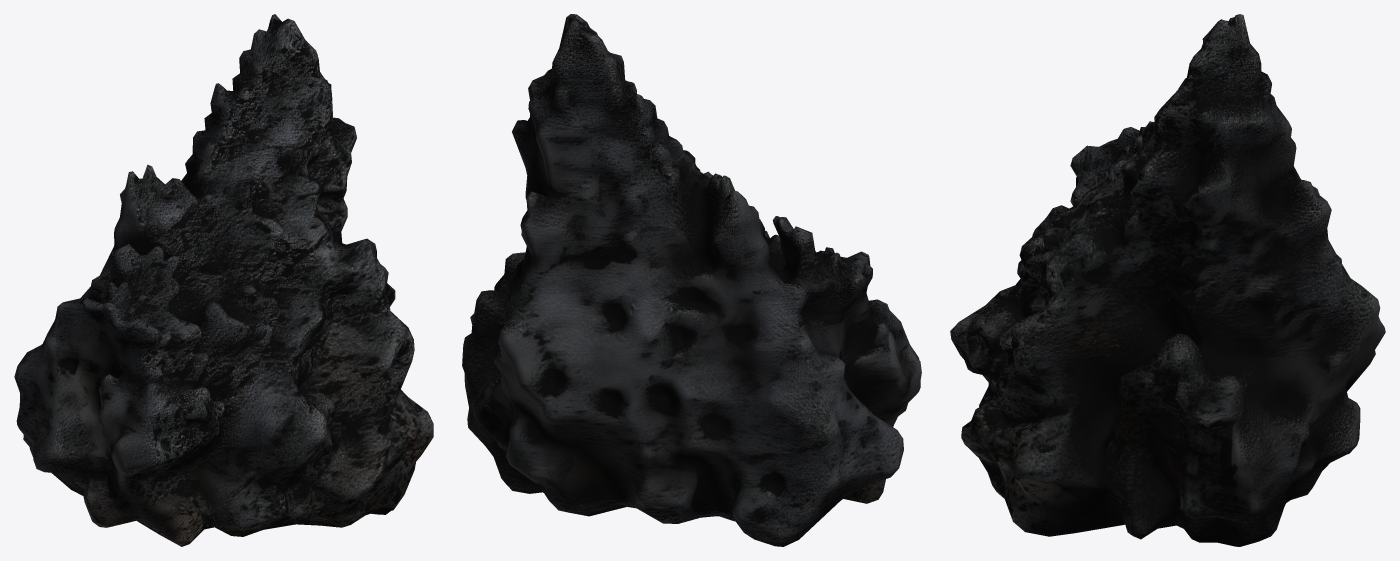
File: selected.fbx
The picture shows the model from 3 angles, left to right: view 1: azimuth 30°, elevation 25°; view 2: azimuth 150°, elevation 25°; view 3: azimuth 270°, elevation 25°; orthographic projection. The views are drawn at different scales.
Visible parts, largest first — view 1: tripo_node_a2f37da6-634e-47e5-b642-c77d2c17bae2; view 2: tripo_node_a2f37da6-634e-47e5-b642-c77d2c17bae2; view 3: tripo_node_a2f37da6-634e-47e5-b642-c77d2c17bae2.
Part boxes in pixels (x1=…): tripo_node_a2f37da6-634e-47e5-b642-c77d2c17bae2: x1=14, y1=14, x2=433, y2=546; tripo_node_a2f37da6-634e-47e5-b642-c77d2c17bae2: x1=462, y1=14, x2=921, y2=546; tripo_node_a2f37da6-634e-47e5-b642-c77d2c17bae2: x1=950, y1=14, x2=1385, y2=546.
Size of the model in its own units: 0.877 by 0.998 by 0.7715.
Materials: 1 (1 with a texture image).
